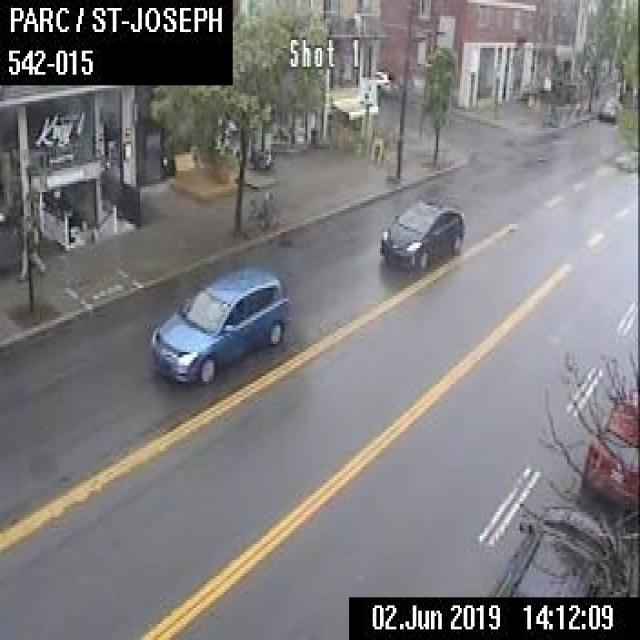vehicle: (147, 256, 291, 389), (491, 503, 619, 596), (582, 376, 638, 512), (374, 192, 466, 272), (596, 99, 620, 120), (375, 68, 393, 93)
